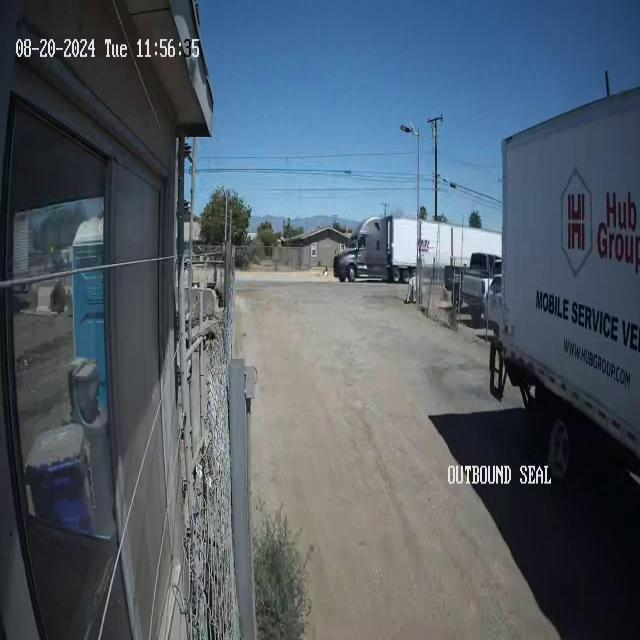CONTAINER: (500, 92, 639, 462)
